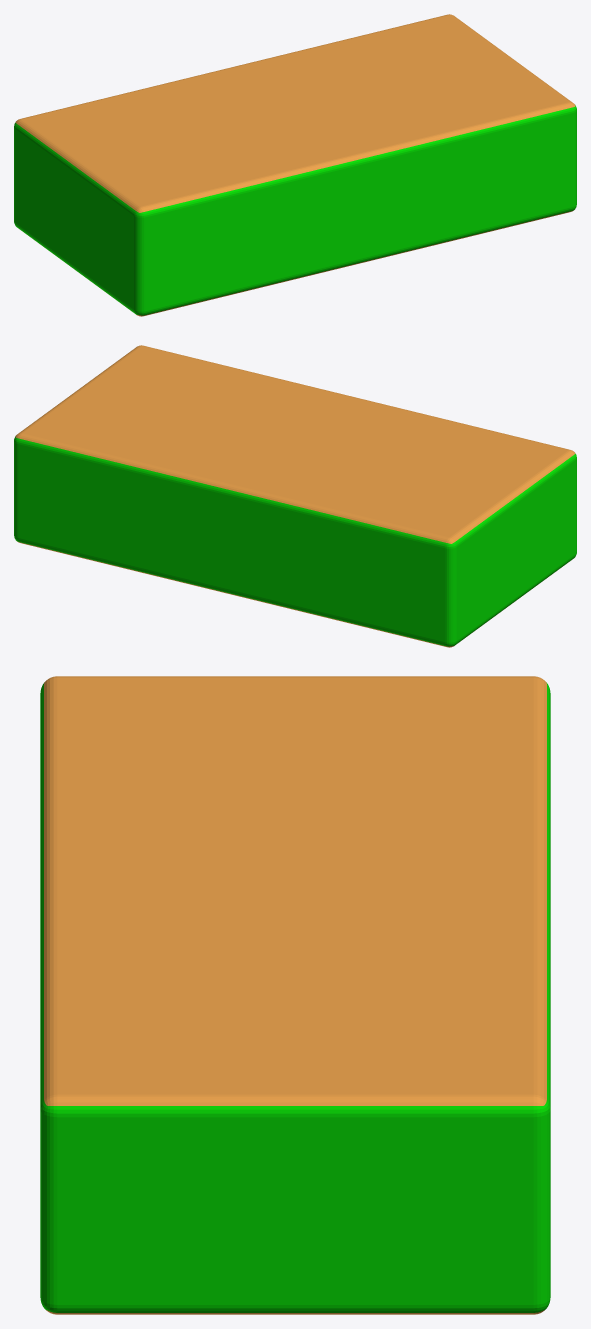
Rendered from Money-Pile_02.fbx.
3 renders of one model, top to bottom at view 1: azimuth 30°, elevation 25°; view 2: azimuth 150°, elevation 25°; view 3: azimuth 270°, elevation 25°, orthographic. The views are drawn at different scales.
Parts seen in each view (by area): view 1: Money-Pile; view 2: Money-Pile; view 3: Money-Pile.
Boxes of the visible parts, x1,y1,x2,y2 form: Money-Pile: (14,14,576,316); Money-Pile: (14,345,576,647); Money-Pile: (40,676,550,1314).
Bounding box in the file's own units: 300 × 70.91 × 150.
